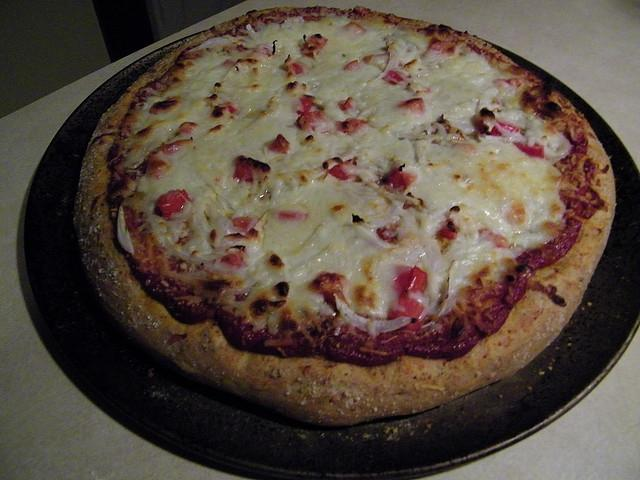onion: (333, 294, 411, 340), (438, 258, 456, 316), (117, 206, 134, 252), (186, 37, 234, 53), (375, 48, 396, 80), (246, 24, 256, 33)
tomato: (387, 266, 428, 330), (153, 188, 190, 220), (379, 167, 418, 195), (300, 34, 328, 57), (156, 139, 193, 156), (296, 110, 326, 130), (328, 160, 356, 180), (512, 142, 544, 158), (490, 120, 520, 136), (337, 118, 368, 133), (436, 219, 456, 241), (268, 134, 290, 154), (396, 97, 424, 112), (234, 163, 254, 182), (382, 70, 403, 86), (278, 210, 308, 220), (377, 228, 397, 243), (233, 216, 253, 230), (178, 122, 199, 133), (292, 63, 302, 74), (228, 104, 236, 114)
